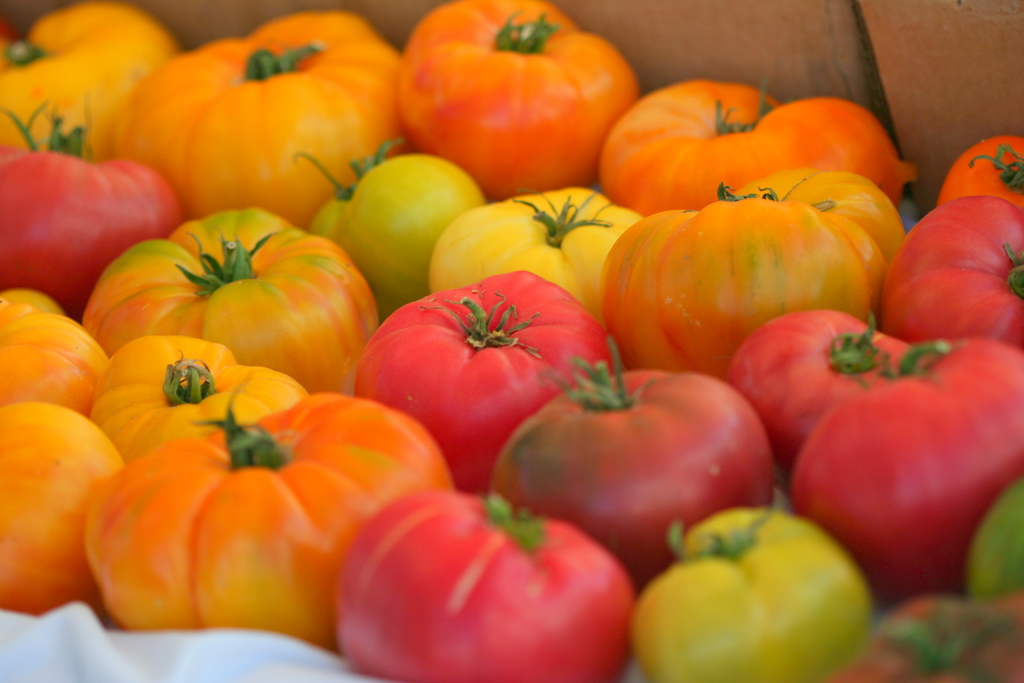Tomato: (5, 0, 1023, 682)
